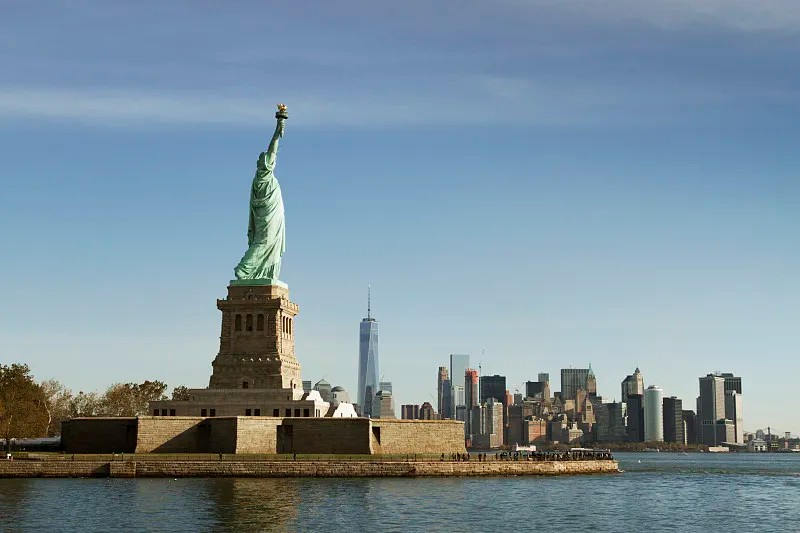SL: (209, 103, 303, 389)
